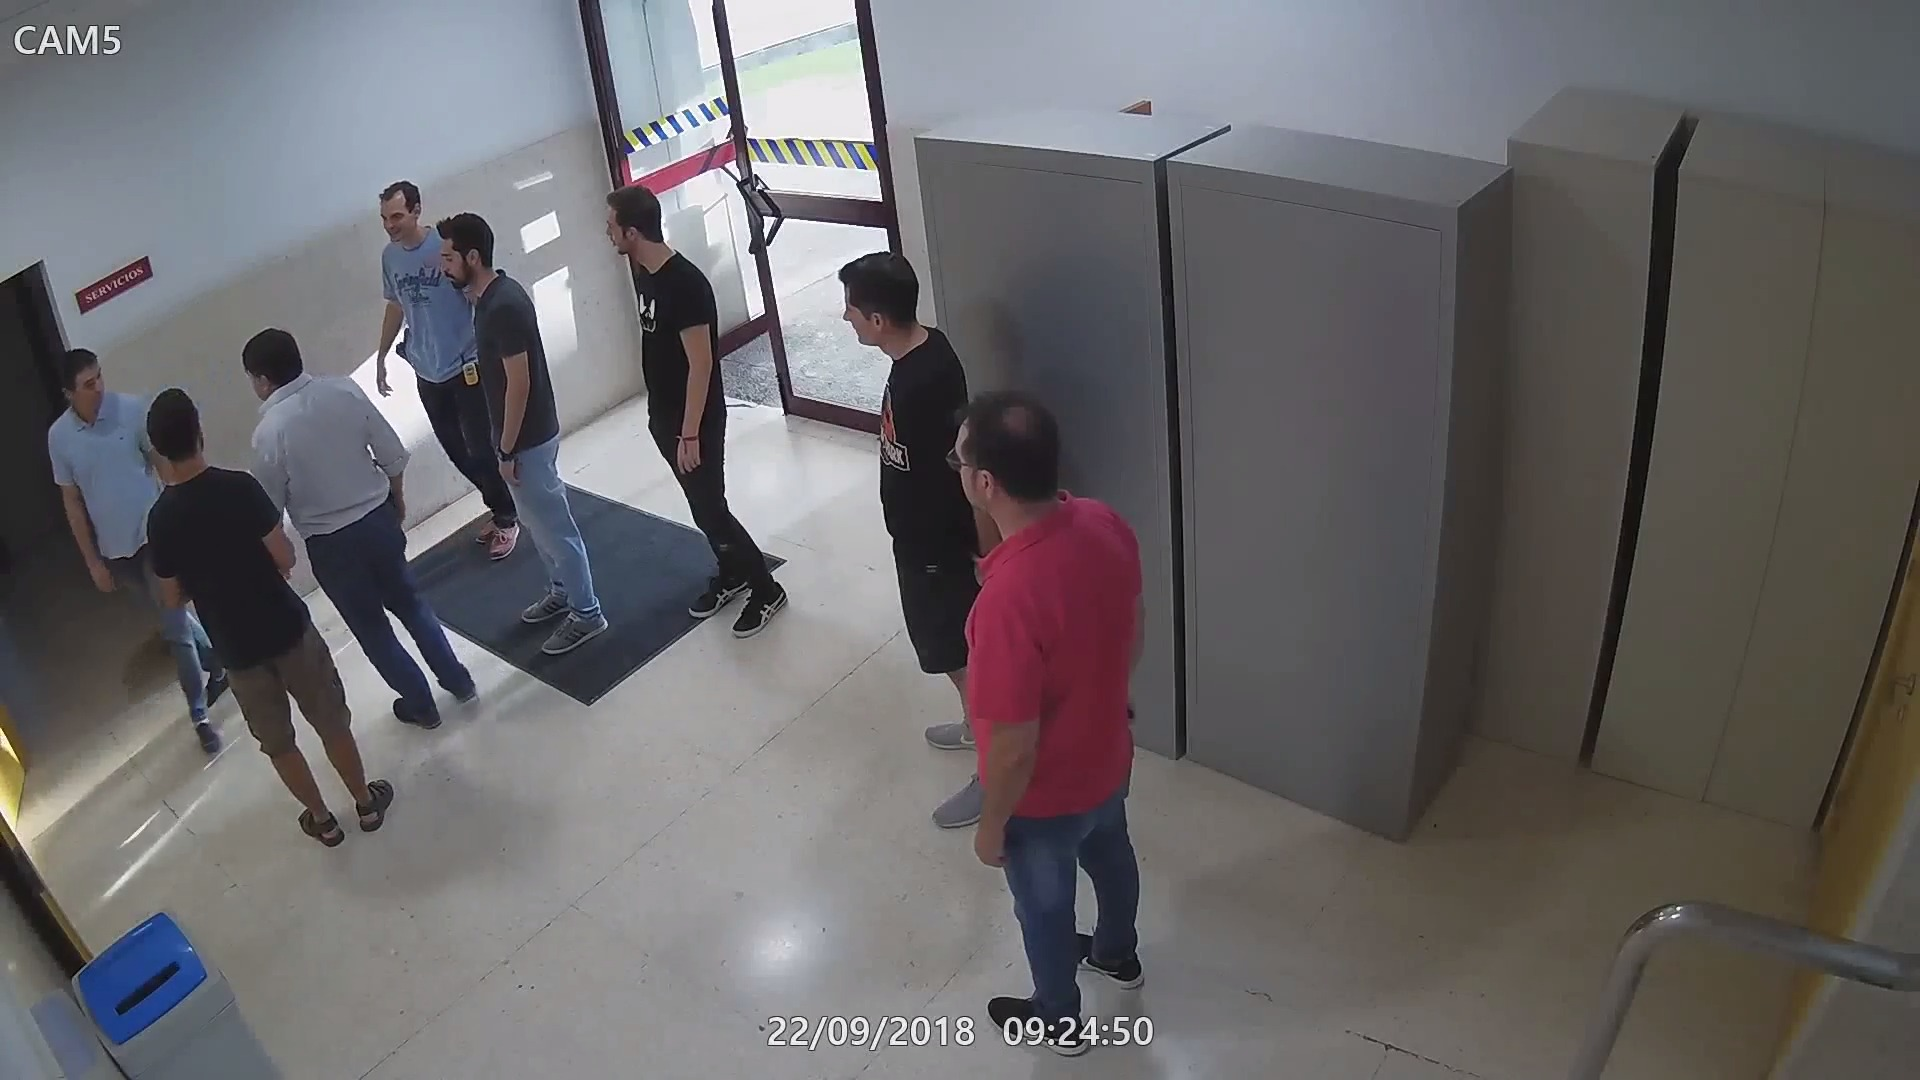Handgun: (389, 324, 415, 372)
